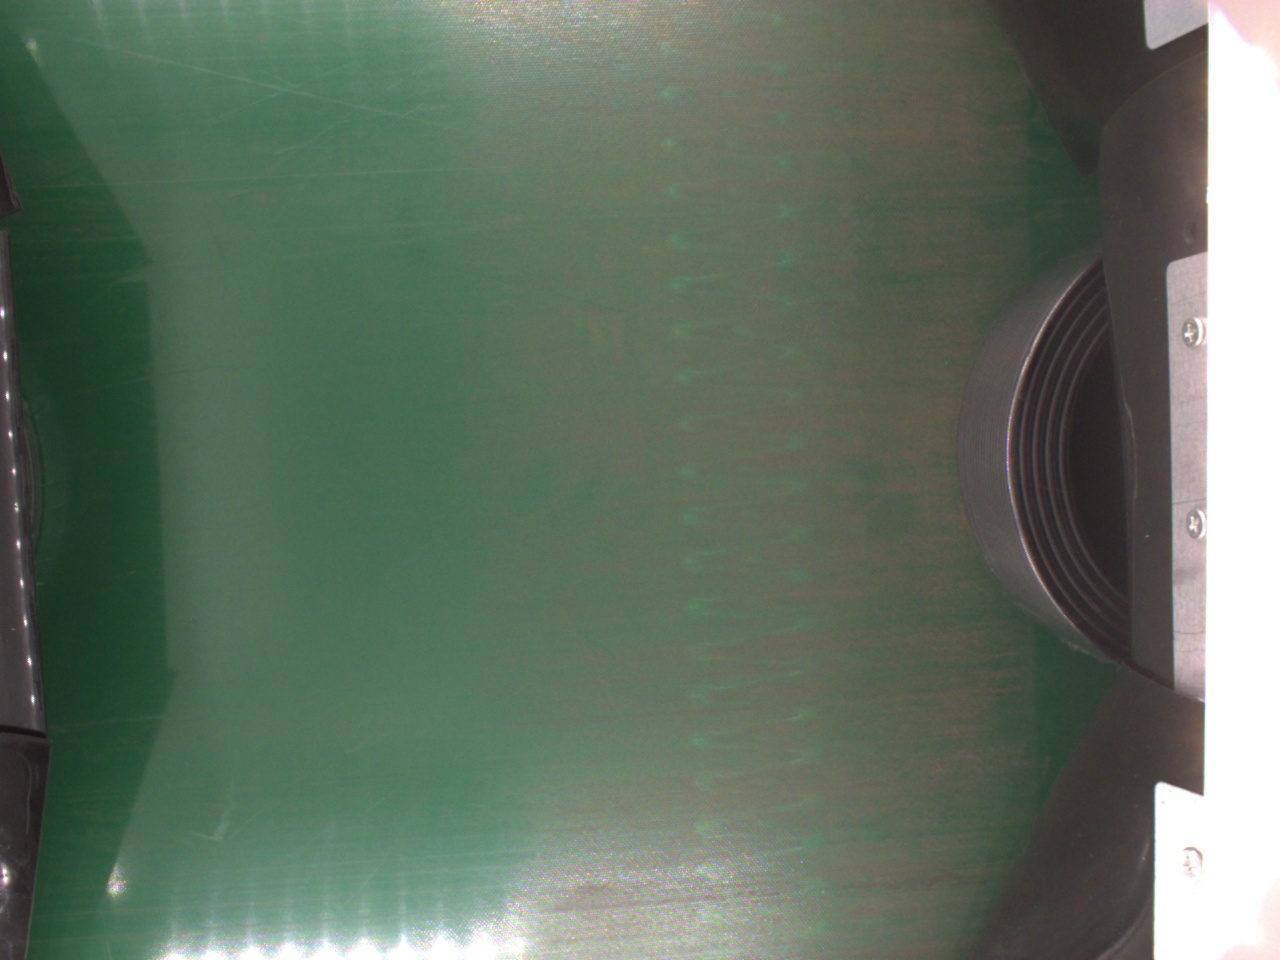black: (963, 246, 1134, 674)
